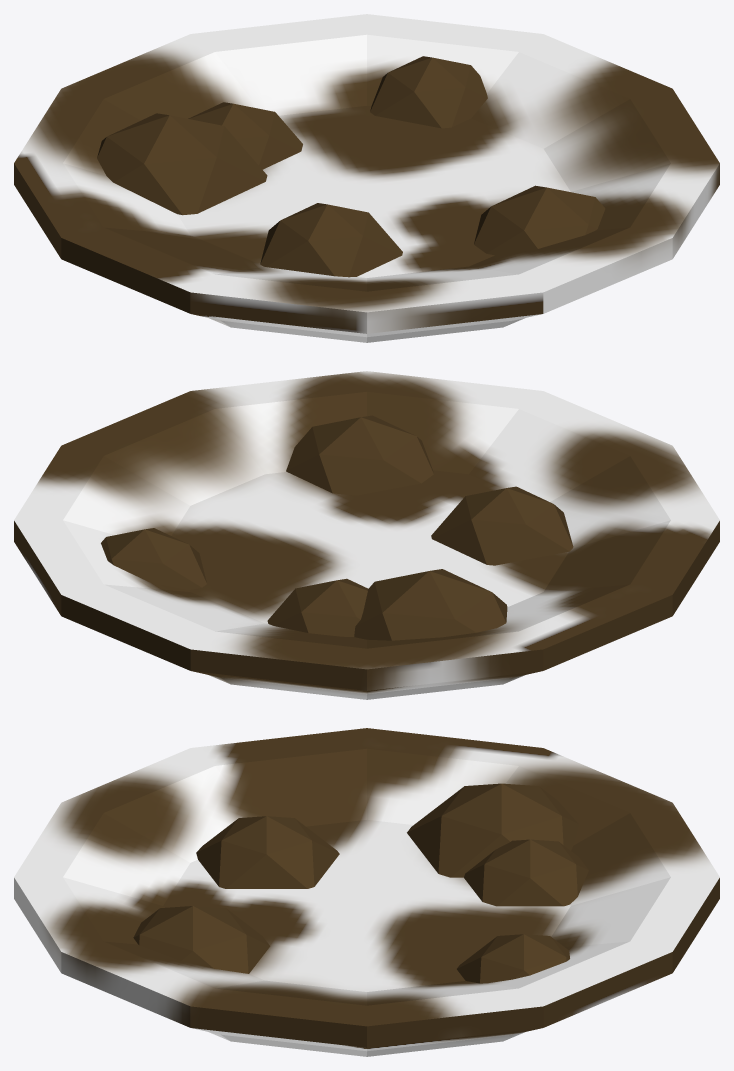
File: DirtyPlate.fbx
3 renders of one model, top to bottom at view 1: azimuth 30°, elevation 25°; view 2: azimuth 150°, elevation 25°; view 3: azimuth 270°, elevation 25°, orthographic.
Parts seen in each view (by area): view 1: Plate; view 2: Plate; view 3: Plate.
Part boxes in pixels (box(x1,y1,x2,y2)): Plate: box(14, 14, 719, 342); Plate: box(14, 371, 719, 699); Plate: box(14, 728, 719, 1056).
Size of the model in its own units: 90.07 by 13.36 by 90.07.
